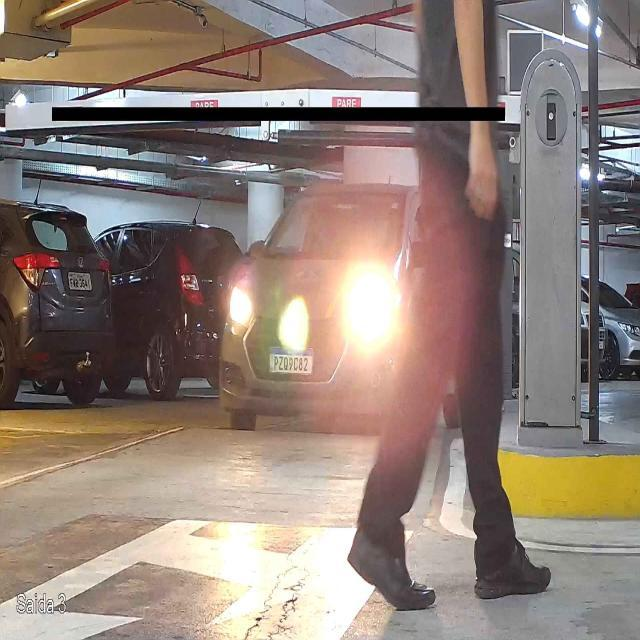mercosul_plate: (267, 345, 315, 377)
